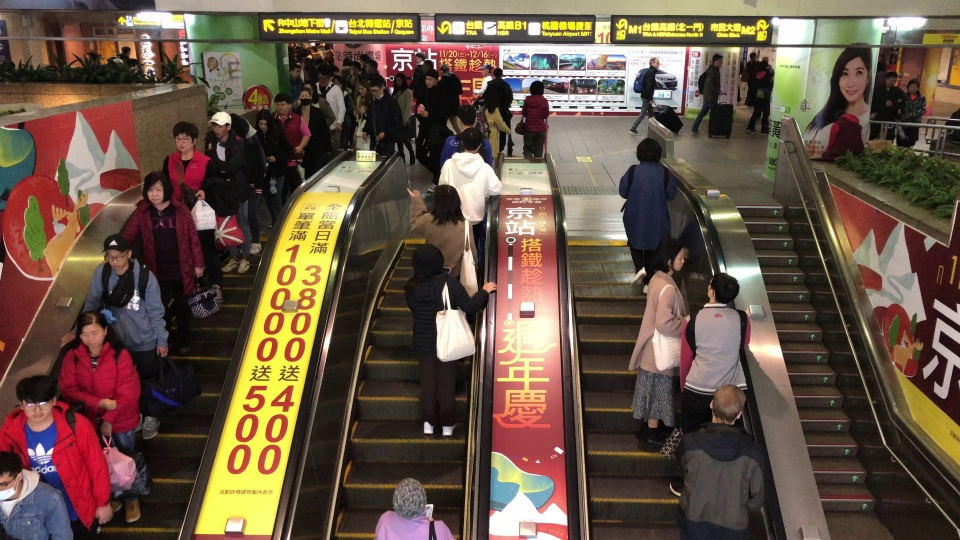person_head: (10, 375, 58, 423), (391, 477, 427, 519), (0, 450, 31, 497), (710, 384, 746, 424), (75, 309, 108, 347), (409, 242, 444, 275), (103, 233, 132, 272), (705, 272, 740, 304), (141, 170, 174, 203), (656, 236, 685, 272), (432, 183, 462, 217), (171, 120, 199, 151), (633, 136, 662, 162), (459, 126, 483, 152), (210, 111, 232, 137), (456, 104, 478, 128), (272, 92, 291, 115), (257, 108, 272, 131), (367, 77, 384, 97), (424, 68, 438, 88), (317, 66, 331, 85), (229, 112, 243, 130), (529, 80, 545, 95), (298, 86, 310, 105), (303, 81, 317, 97), (906, 78, 920, 93), (484, 93, 497, 109), (885, 69, 898, 85), (833, 110, 847, 123), (348, 60, 359, 76), (364, 60, 377, 73), (394, 72, 407, 85), (290, 63, 302, 77), (333, 75, 344, 90), (711, 53, 722, 68), (415, 50, 427, 63), (421, 59, 433, 72), (358, 79, 368, 94), (84, 51, 96, 63), (648, 56, 660, 68), (359, 53, 370, 65), (481, 64, 491, 76), (759, 58, 769, 70), (121, 45, 132, 55), (876, 60, 886, 71), (493, 66, 502, 78), (303, 58, 313, 68), (440, 63, 450, 73), (749, 51, 758, 61), (325, 50, 333, 58), (310, 45, 317, 53), (289, 42, 295, 45)
person_vbox: (59, 233, 170, 440), (0, 372, 119, 538), (401, 242, 498, 437), (56, 309, 142, 522), (120, 170, 205, 353), (674, 383, 765, 540), (626, 236, 686, 452), (160, 120, 225, 304), (679, 271, 752, 423), (618, 137, 678, 292), (207, 113, 267, 255), (435, 125, 503, 242), (208, 111, 254, 274), (405, 182, 478, 277), (0, 451, 74, 539), (374, 476, 456, 539), (253, 108, 294, 229), (271, 91, 312, 203), (438, 103, 493, 170), (472, 66, 513, 152), (289, 86, 331, 164), (809, 109, 865, 164), (366, 77, 403, 154), (690, 53, 724, 135), (315, 66, 346, 153), (414, 68, 439, 173), (289, 80, 336, 135), (628, 56, 659, 136), (870, 70, 904, 142), (520, 80, 550, 158), (895, 78, 927, 148), (391, 72, 415, 165), (480, 93, 512, 158), (747, 58, 773, 134), (439, 63, 463, 132), (332, 75, 354, 149), (353, 78, 371, 149), (406, 49, 426, 100), (743, 51, 757, 105), (346, 60, 363, 97), (471, 63, 491, 94), (365, 59, 386, 86), (289, 63, 303, 95), (875, 59, 887, 86), (302, 58, 317, 79), (307, 46, 322, 65)
